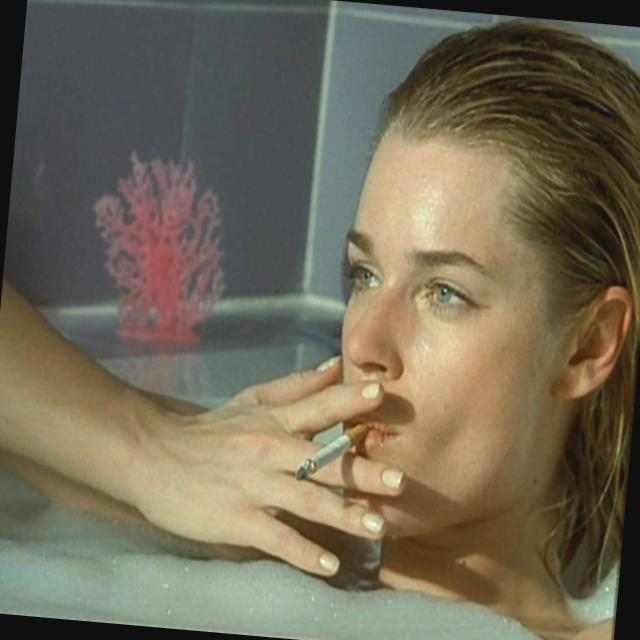smoke: (294, 416, 370, 486)
